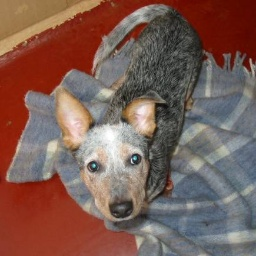dog: (53, 4, 199, 228)
